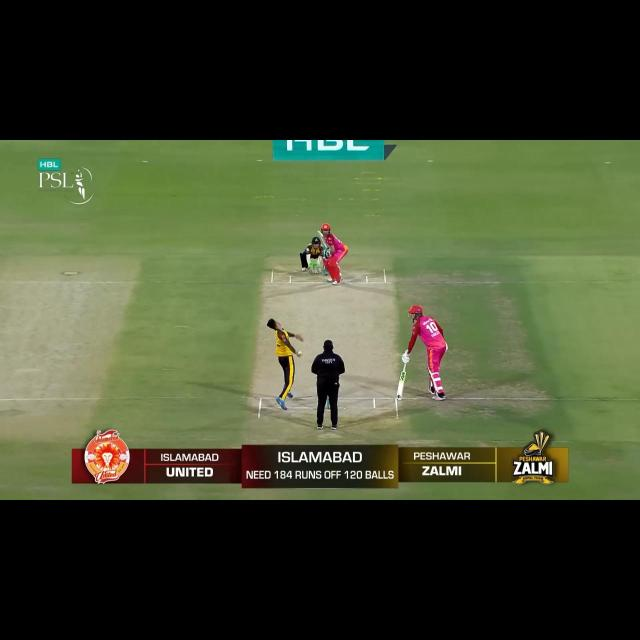bat: (394, 370, 407, 399), (317, 231, 328, 246)
toe: (394, 393, 404, 400), (316, 230, 322, 234)
